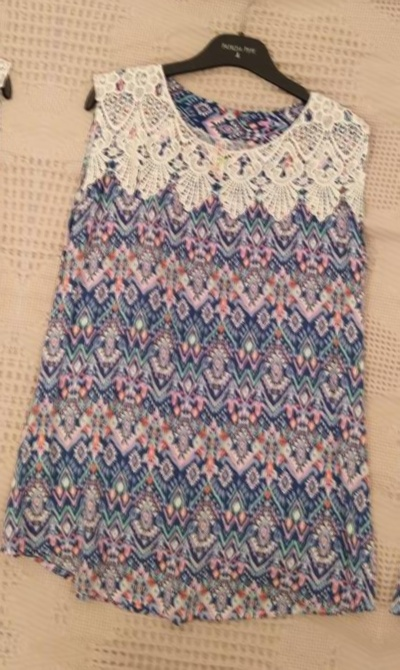Dress: (15, 51, 400, 653), (377, 102, 400, 670), (0, 0, 19, 591)
